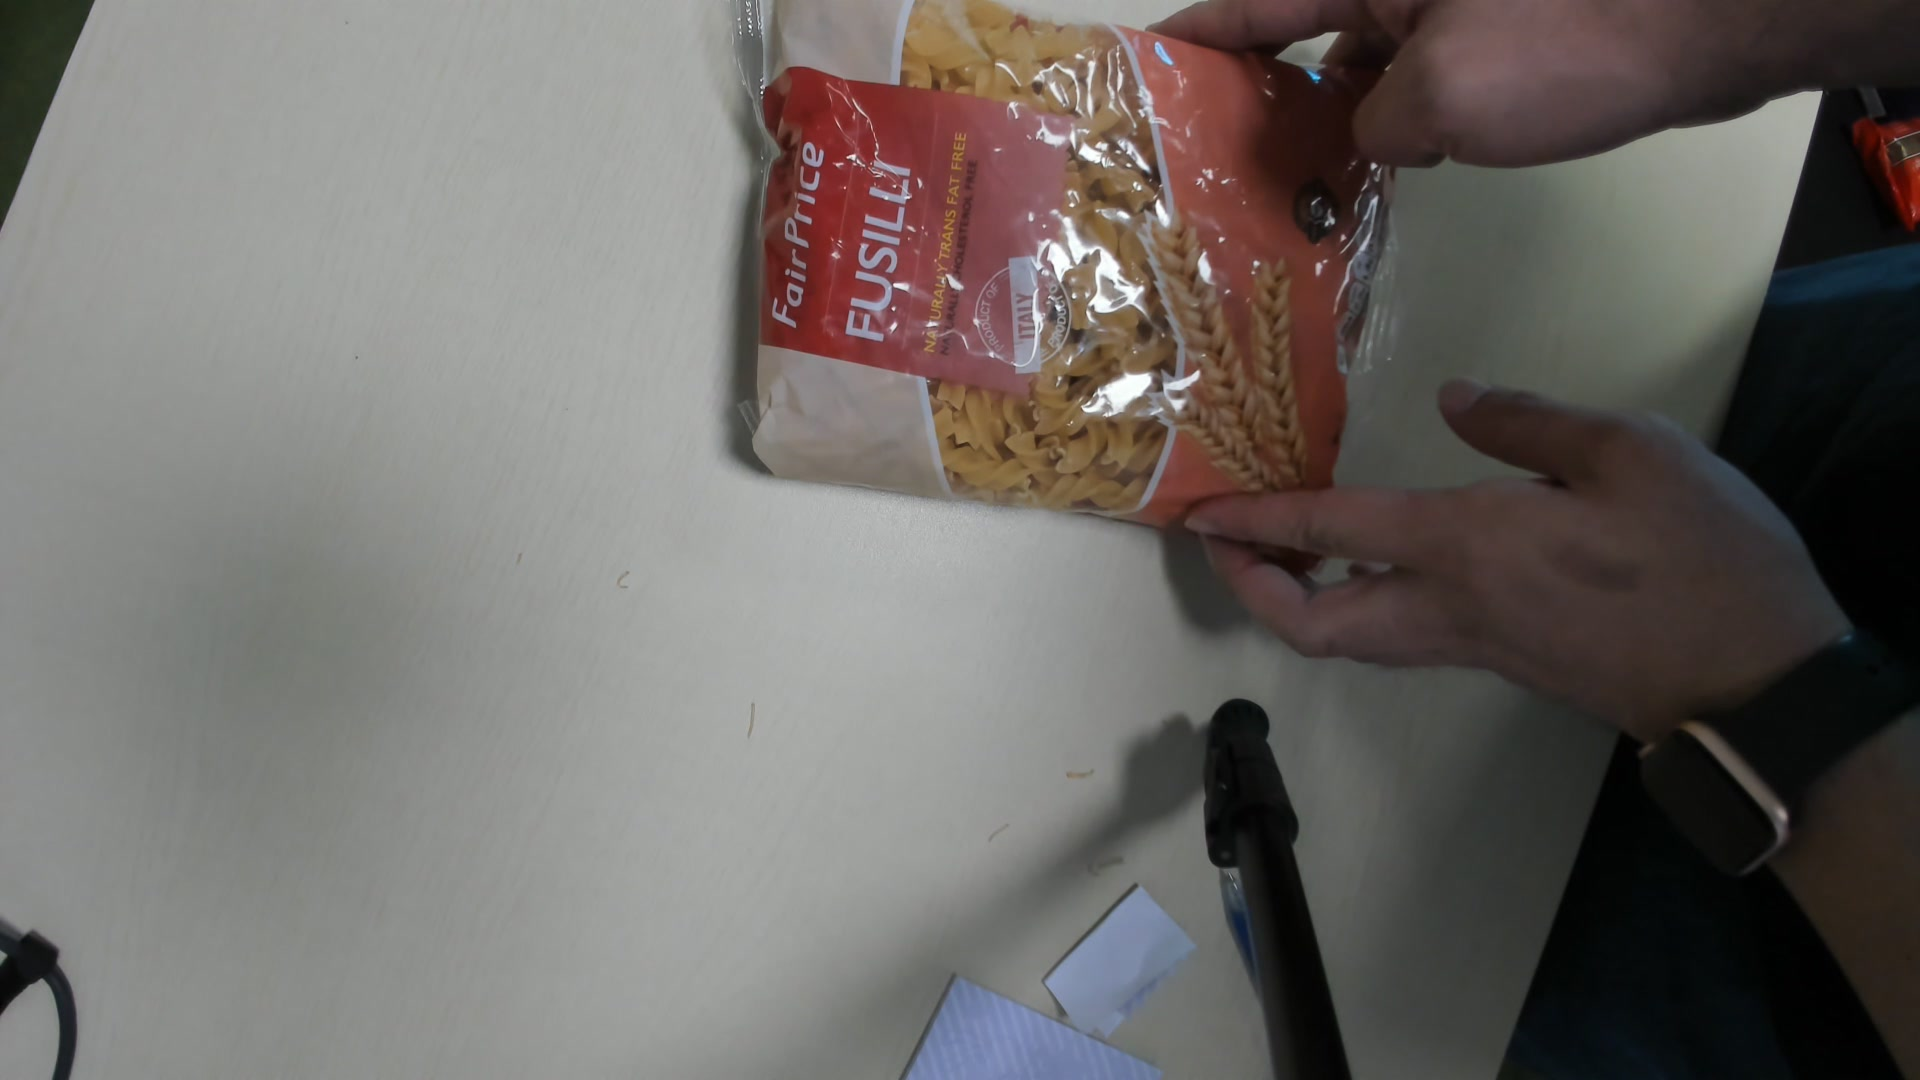Pasta_500-599g_Halal_NonHealthy: (744, 7, 1400, 555)
